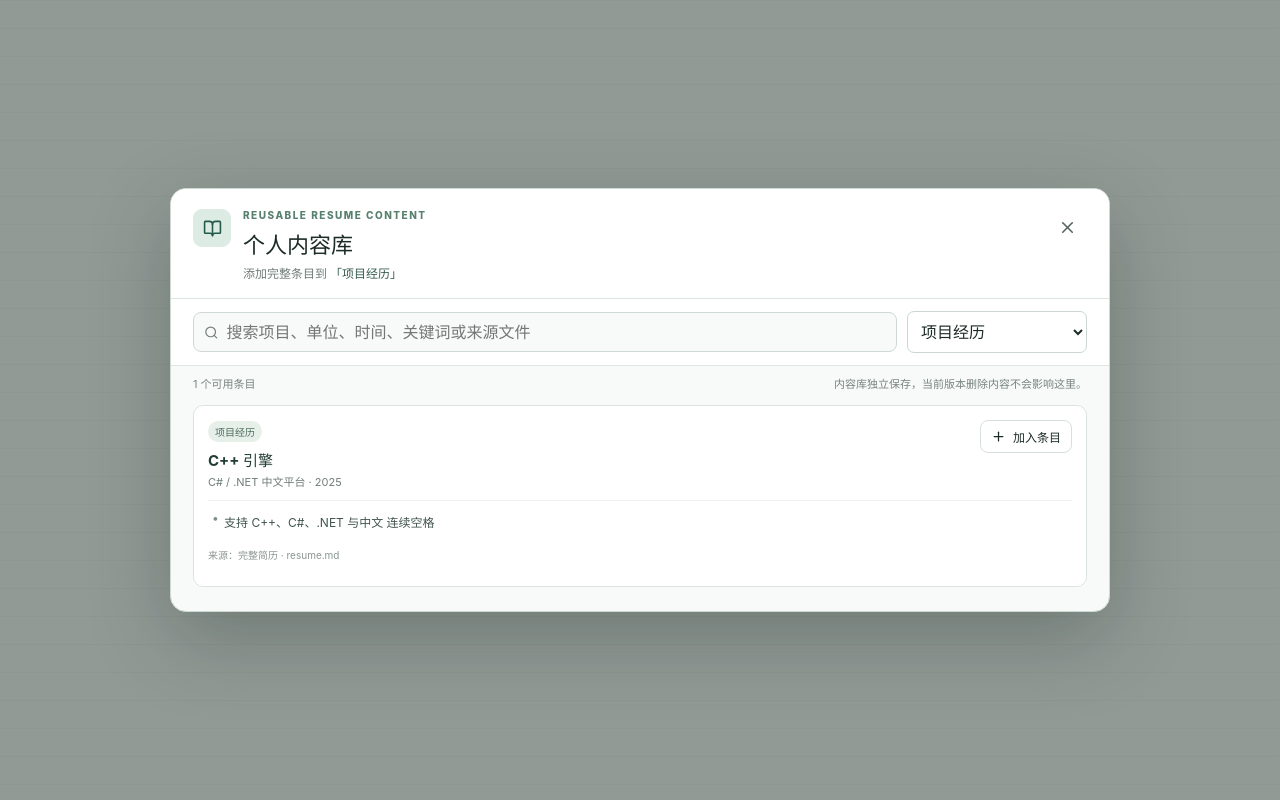
Test: ContentLibraryDialog search and filters › defaults to the destination module and lets the user switch module filters
The width and height of the screenshot is (1280, 800).
Expected: the heading "C++ 引擎" is shown, [208,451,273,470]
Expected: the heading "示例大学" is not shown
Select "教育经历" in the dropdown named "筛选内容库模块": point(997, 332) [907,311,1087,353]
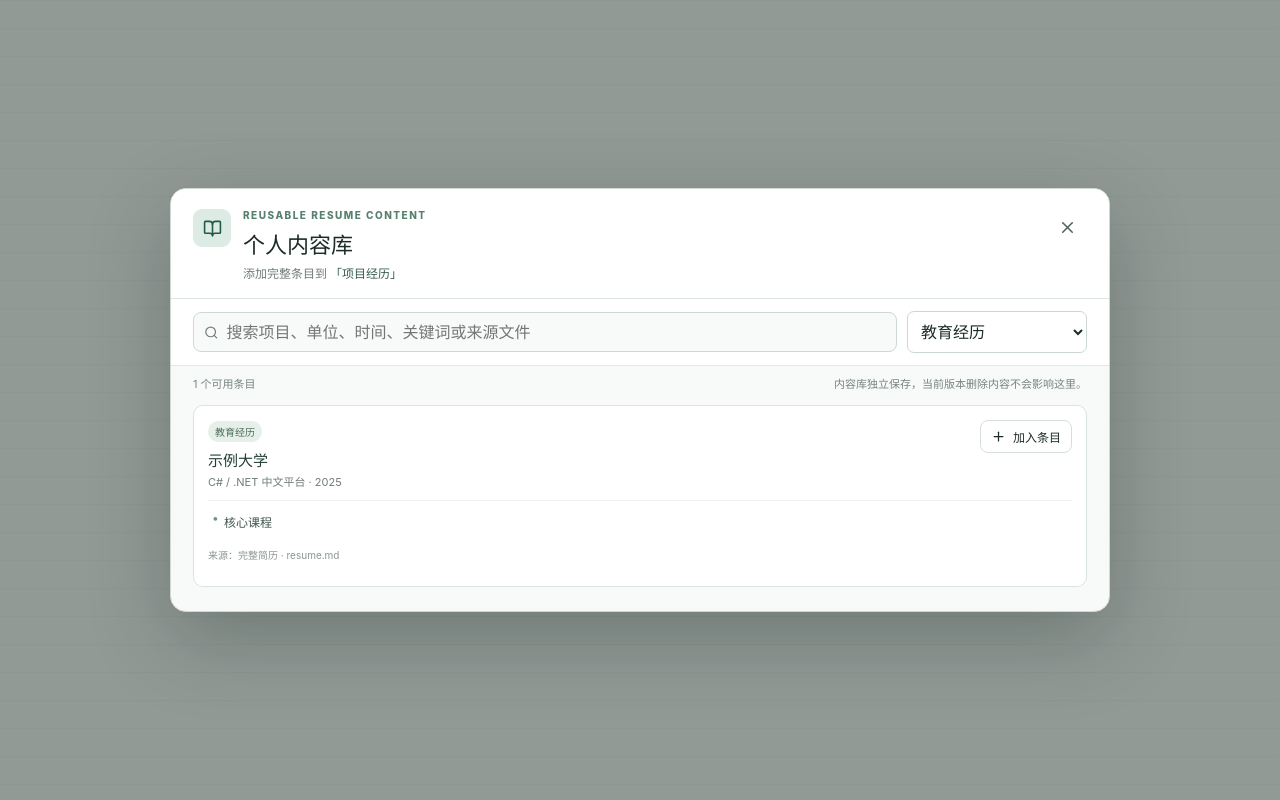
Now the heading "示例大学" is shown, box [208,451,268,470]
Now the heading "C++ 引擎" is gone
